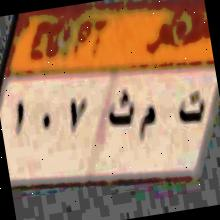0: (35, 104, 58, 139)
1: (10, 94, 30, 138)
7: (62, 87, 94, 139)
meem: (136, 100, 158, 147)
taa: (168, 77, 210, 136)
thaa: (103, 87, 136, 133)
